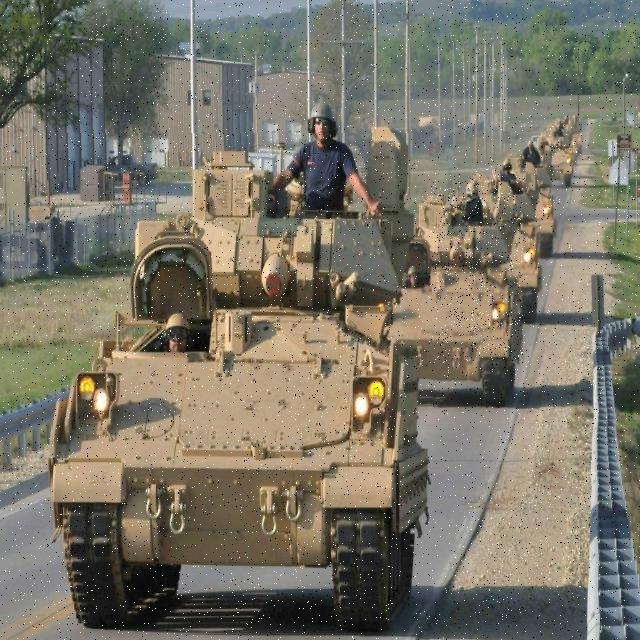MIL_MBT: (52, 134, 432, 634), (433, 174, 523, 361)
